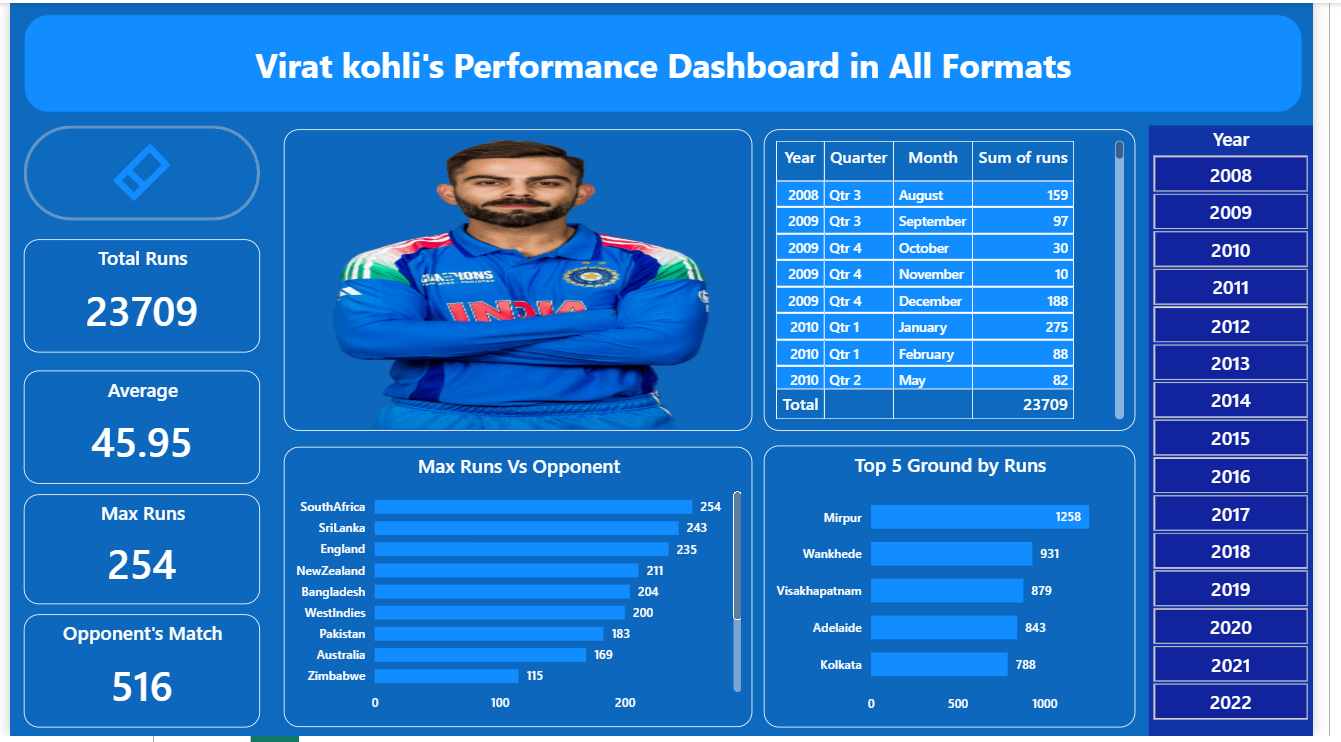

This screenshot's page, from the dashboard's own definition file:
{"tool":"powerbi","page":{"name":"Page 2","canvas":[1280,720],"ordinal":0},"visuals":[{"type":"listSlicer","fields":{"Values":["Virat kohli.date.Variation.Date Hierarchy.Year"]},"box":[1118.1,119.7,161.6,600.2],"z":0},{"type":"barChart","title":"Top 5 Ground by Runs","fields":{"Category":["Virat kohli.ground"],"Y":["Sum(Virat kohli.runs)"]},"box":[740.1,434.3,365,277],"z":1},{"type":"barChart","title":"Max Runs Vs Opponent","fields":{"Category":["Virat kohli.opponent"],"Y":["Max(Virat kohli.runs)"]},"box":[268.4,435.7,460.2,275.6],"z":2},{"type":"shape","box":[13,11.5,1255.2,96.7],"z":3},{"type":"cardVisual","title":"Opponent''s Match","fields":{"Data":["Count(Virat kohli.Match_No)"]},"box":[13,600.2,232.3,111.1],"z":4},{"type":"cardVisual","title":"Total Runs","fields":{"Data":["Sum(Virat kohli.runs)"]},"box":[13,232.3,232.3,111.1],"z":5},{"type":"cardVisual","title":"Average","fields":{"Data":["Virat kohli.Average"]},"box":[13,360.7,232.3,111.1],"z":6},{"type":"cardVisual","title":"Max Runs","fields":{"Data":["Max(Virat kohli.runs)"]},"box":[13,481.9,232.3,108.2],"z":7},{"type":"tableEx","fields":{"Values":["Virat kohli.date.Variation.Date Hierarchy.Year","Virat kohli.date.Variation.Date Hierarchy.Quarter","Virat kohli.date.Variation.Date Hierarchy.Month","Sum(Virat kohli.runs)"]},"box":[740.1,124.1,365,295.8],"z":8},{"type":"actionButton","box":[13.5,120.2,231.9,93.3],"z":9},{"type":"image","box":[268.7,123.9,460.1,295.7],"z":10}]}

Visuals, with their boxes in screenshot pixels (x1, y1, x2, y2), scaled from the page's 1280x720 canvas onto the 1341x742 screenshot:
listSlicer - Virat kohli.date.Variation.Date Hierarchy.Year: [1171,123,1340,741]
"Top 5 Ground by Runs" barChart: [775,448,1158,733]
"Max Runs Vs Opponent" barChart: [281,449,763,733]
shape: [14,12,1329,112]
"Opponent''s Match" cardVisual: [14,619,257,733]
"Total Runs" cardVisual: [14,239,257,354]
"Average" cardVisual: [14,372,257,486]
"Max Runs" cardVisual: [14,497,257,608]
tableEx - Virat kohli.date.Variation.Date Hierarchy.Year x Virat kohli.date.Variation.Date Hierarchy.Quarter: [775,128,1158,433]
actionButton: [14,124,257,220]
image: [282,128,764,432]
